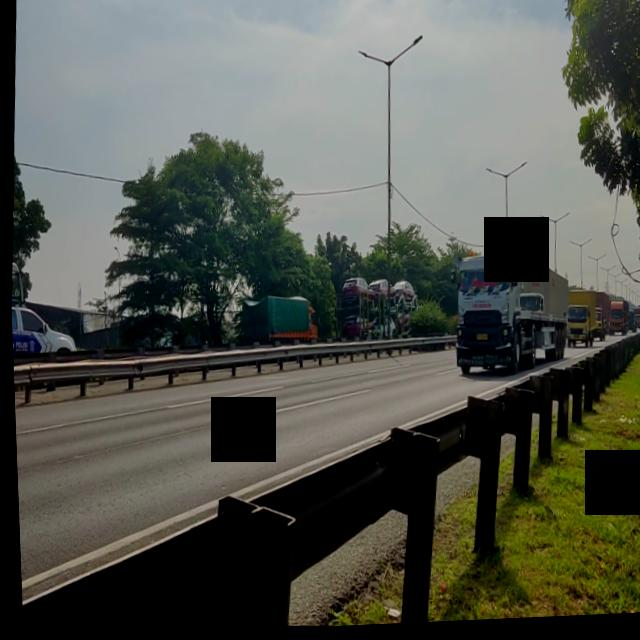Golongan V: (441, 249, 571, 385)
